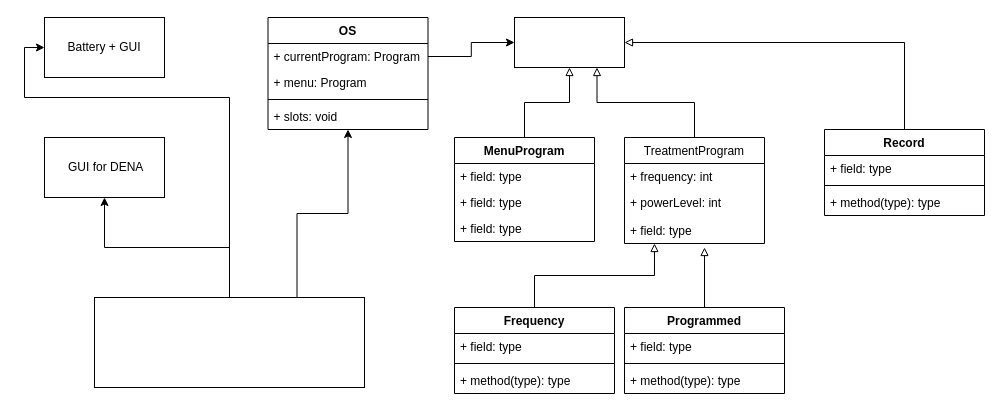
This 1002x414 diagram has some shape labels left out. The shapes that lost their labels are listed below. From the top down, each one's centre as x and y in pixels, then its label:
the point at 569,42: Program
the point at 229,342: MainWindow
